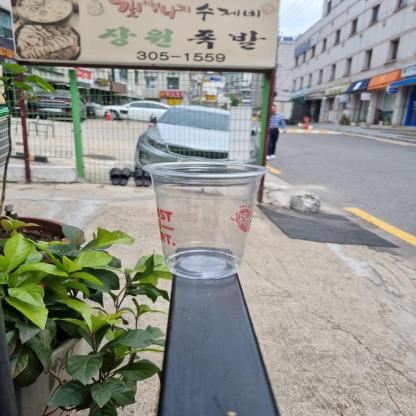Plastic Cup: (138, 158, 274, 282)
